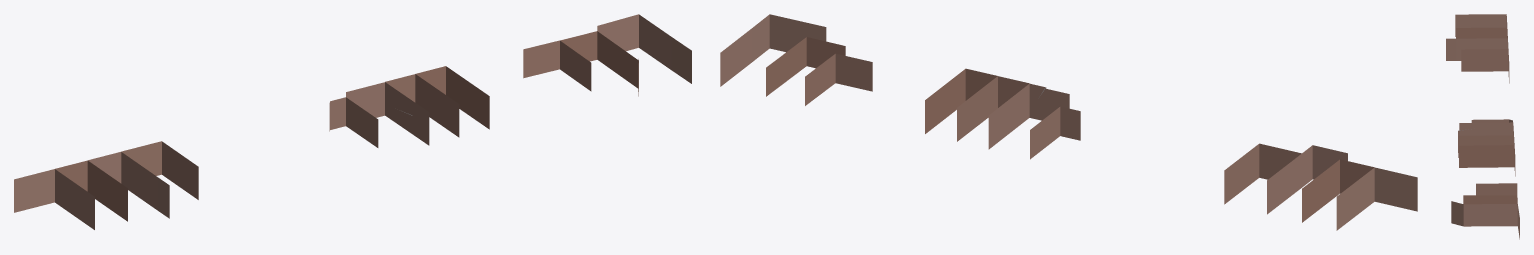
File: c_1633_17827_buildings_residential.glb
3 renders of one model, left to right at view 1: azimuth 30°, elevation 25°; view 2: azimuth 150°, elevation 25°; view 3: azimuth 270°, elevation 25°, orthographic. The views are drawn at different scales.
Parts seen in each view (by area): view 1: geometry_0; view 2: geometry_0; view 3: geometry_0.
Boxes of the visible parts, <box> form: geometry_0: <box>14,14,691,229</box>; geometry_0: <box>720,14,1417,230</box>; geometry_0: <box>1446,14,1519,239</box>.
Size of the model in its own units: 219 by 12.08 by 33.04.
